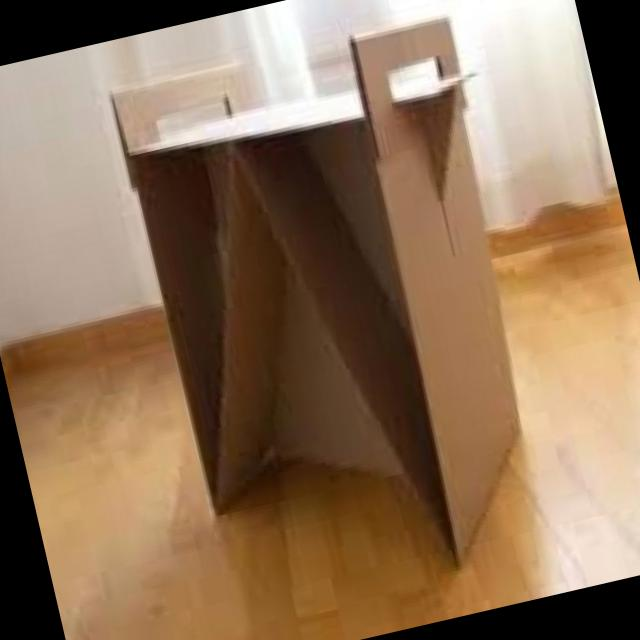cardboard paper: (115, 16, 519, 549)
